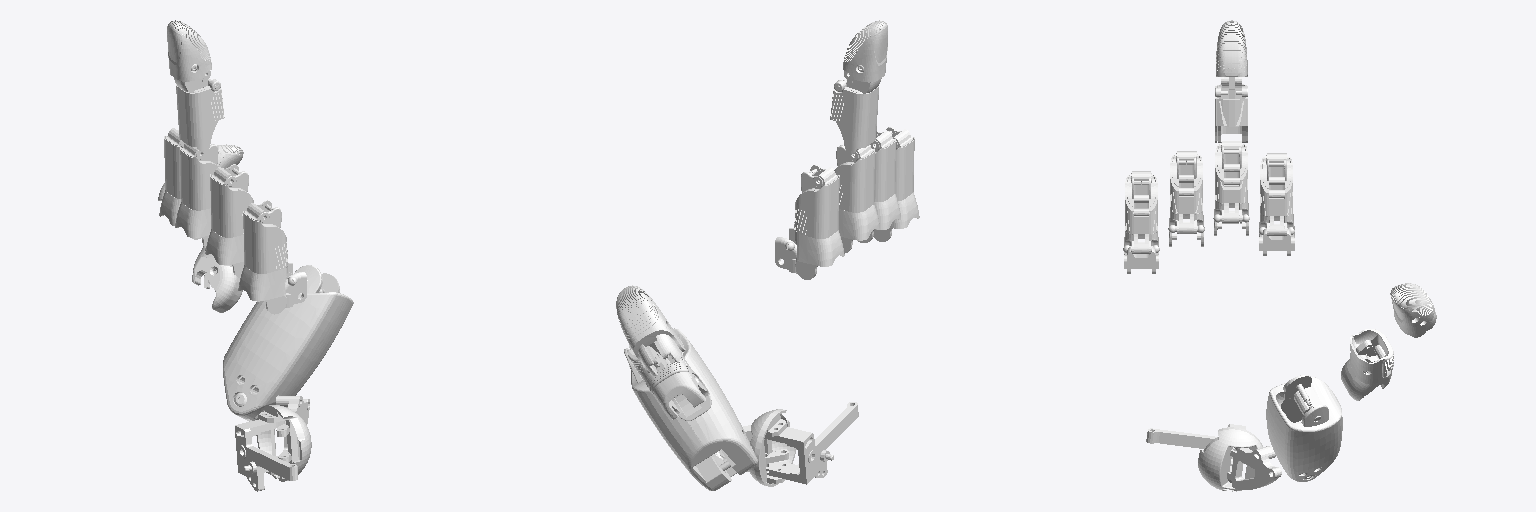
--- What the picture shows (computed from the rendered views, not written in the file) ---
3 views of the same robot in one strip: view 1: azimuth 30°, elevation 25°; view 2: azimuth 150°, elevation 25°; view 3: azimuth 270°, elevation 25° (orthographic).
Robot: linkerhand_l20_right.urdf — 22 links, 21 joints (21 revolute); root link base_link; default pose: all joints at 0.
Links seen in each view (by area): view 1: thumb_metacarpals, pinky_proximal, thumb_metacarpals_base1, ring_proximal, middle_proximal, middle_middle, middle_distal, thumb_proximal, index_proximal, thumb_metacarpals_base2, pinky_metacarpals, thumb_distal; view 2: thumb_metacarpals, thumb_metacarpals_base1, index_proximal, thumb_distal, middle_proximal, thumb_proximal, middle_middle, middle_distal, ring_proximal, pinky_proximal, index_metacarpals; view 3: thumb_metacarpals, thumb_metacarpals_base1, ring_proximal, middle_proximal, thumb_proximal, index_proximal, pinky_proximal, middle_distal, thumb_distal, thumb_metacarpals_base2, middle_middle, index_metacarpals (+1 smaller).
Boxes of the visible links, x1,y1,x2,y2 form: thumb_metacarpals: [223, 265, 353, 421]; pinky_proximal: [238, 200, 296, 314]; thumb_metacarpals_base1: [235, 405, 311, 491]; ring_proximal: [205, 164, 253, 277]; middle_proximal: [175, 143, 218, 247]; middle_middle: [176, 79, 224, 151]; middle_distal: [167, 20, 211, 92]; thumb_proximal: [192, 246, 242, 312]; index_proximal: [159, 128, 200, 239]; thumb_metacarpals_base2: [276, 395, 309, 462]; pinky_metacarpals: [285, 263, 306, 307]; thumb_distal: [158, 144, 243, 200]; thumb_metacarpals: [624, 328, 757, 490]; thumb_metacarpals_base1: [749, 402, 858, 486]; index_proximal: [785, 165, 844, 279]; thumb_distal: [616, 285, 685, 375]; middle_proximal: [834, 145, 879, 253]; thumb_proximal: [627, 345, 711, 420]; middle_middle: [830, 79, 878, 153]; middle_distal: [843, 20, 887, 93]; ring_proximal: [858, 130, 900, 242]; pinky_proximal: [873, 127, 919, 241]; index_metacarpals: [775, 228, 796, 273]; thumb_metacarpals: [1266, 375, 1342, 481]; thumb_metacarpals_base1: [1146, 424, 1262, 491]; ring_proximal: [1168, 151, 1204, 246]; middle_proximal: [1213, 141, 1249, 235]; thumb_proximal: [1341, 329, 1393, 400]; index_proximal: [1259, 153, 1294, 237]; pinky_proximal: [1123, 171, 1159, 255]; middle_distal: [1216, 20, 1247, 98]; thumb_distal: [1390, 283, 1436, 337]; thumb_metacarpals_base2: [1227, 446, 1281, 489]; middle_middle: [1215, 84, 1247, 142]; index_metacarpals: [1259, 228, 1294, 255].
Size in the robot's own frame: 0.1057 by 0.1501 by 0.2245 metres.
13 mesh visuals loaded from 22 distinct referenced files (13 binary STL); not drawn: 9 (reference not matched to a file when rendering).

robot.urdf — linkerhand_l20_right.urdf:
<?xml version="1.0" encoding="utf-8"?>
<!-- This URDF was automatically created by SolidWorks to URDF Exporter! Originally created by Stephen Brawner ([email redacted]) 
     Commit Version: 1.6.0-1-g15f4949  Build Version: 1.6.7594.29634
     For more information, please see http://wiki.ros.org/sw_urdf_exporter -->
<robot
  name="linkerhand_l20_right.urdf">
  <link
    name="base_link">
    <inertial>
      <origin
        xyz="0.000441885047026747 0.00500849972399617 0.0573919533012254"
        rpy="0 0 0" />
      <mass
        value="2.91817267018669E-05" />
      <inertia
        ixx="1.51306260584639E-11"
        ixy="2.65772325611336E-21"
        ixz="1.20313450442092E-16"
        iyy="2.22812296859512E-10"
        iyz="-4.56163949104085E-15"
        izz="2.22792879892319E-10" />
    </inertial>
    <visual>
      <origin
        xyz="0 0 0"
        rpy="0 0 0" />
      <geometry>
        <mesh
          filename="meshes/base_link.STL" />
      </geometry>
      <material
        name="">
        <color
          rgba="1 1 1 1" />
      </material>
    </visual>
    <collision>
      <origin
        xyz="0 0 0"
        rpy="0 0 0" />
      <geometry>
        <mesh
          filename="meshes/base_link.STL" />
      </geometry>
    </collision>
  </link>
  <link
    name="thumb_metacarpals_base1">
    <inertial>
      <origin
        xyz="0.0229535763476013 0.000832788697536835 -0.0013198199434825"
        rpy="0 0 0" />
      <mass
        value="0.000117519863807651" />
      <inertia
        ixx="2.36022486140104E-09"
        ixy="3.03248382970144E-13"
        ixz="-6.18340736069727E-12"
        iyy="2.35568711016501E-09"
        iyz="4.61881186600495E-13"
        izz="1.48861157996815E-10" />
    </inertial>
    <visual>
      <origin
        xyz="0 0 0"
        rpy="0 0 0" />
      <geometry>
        <mesh
          filename="meshes/thumb_metacarpals_base1.STL" />
      </geometry>
      <material
        name="">
        <color
          rgba="1 1 1 1" />
      </material>
    </visual>
    <collision>
      <origin
        xyz="0 0 0"
        rpy="0 0 0" />
      <geometry>
        <mesh
          filename="meshes/thumb_metacarpals_base1.STL" />
      </geometry>
    </collision>
  </link>
  <joint
    name="thumb_cmc_roll"
    type="revolute">
    <origin
      xyz="0.000673424792196536 0.00500849972399572 0.0573919534353699"
      rpy="0 0 0" />
    <parent
      link="base_link" />
    <child
      link="thumb_metacarpals_base1" />
    <axis
      xyz="0.999999999999929 0 0" />
    <limit
      lower="-0.8"
      upper="0.5"
      effort="100"
      velocity="1" />
  </joint>
  <link
    name="thumb_metacarpals_base2">
    <inertial>
      <origin
        xyz="0.000231570160724059 0.0745658286975114 0.0553790725054494"
        rpy="0 0 0" />
      <mass
        value="0.00583469729849543" />
      <inertia
        ixx="2.46142363141672E-06"
        ixy="1.13403105282533E-07"
        ixz="-2.91010442811516E-08"
        iyy="1.34551273815639E-06"
        iyz="5.67369748967897E-07"
        izz="1.54771605564477E-06" />
    </inertial>
    <visual>
      <origin
        xyz="0 0 0"
        rpy="0 0 0" />
      <geometry>
        <mesh
          filename="meshes/thumb_metacarpals_base2.STL" />
      </geometry>
      <material
        name="">
        <color
          rgba="1 1 1 1" />
      </material>
    </visual>
    <collision>
      <origin
        xyz="0 0 0"
        rpy="0 0 0" />
      <geometry>
        <mesh
          filename="meshes/thumb_metacarpals_base2.STL" />
      </geometry>
    </collision>
  </link>
  <joint
    name="thumb_cmc_yaw"
    type="revolute">
    <origin
      xyz="0.0229415604675387 0.000833353787679902 0"
      rpy="0 0 0" />
    <parent
      link="thumb_metacarpals_base1" />
    <child
      link="thumb_metacarpals_base2" />
    <axis
      xyz="0 0 -1" />
    <limit
      lower="0"
      upper="1.57"
      effort="100"
      velocity="1" />
  </joint>
  <link
    name="thumb_metacarpals">
    <inertial>
      <origin
        xyz="0.0034281344806788 0.000316261040417279 0.0674362259842037"
        rpy="0 0 0" />
      <mass
        value="0.00583469729849543" />
      <inertia
        ixx="2.00707953925106E-06"
        ixy="-1.02470756673672E-07"
        ixz="-1.34196876876637E-07"
        iyy="2.4614236313789E-06"
        iyz="5.66293125829818E-08"
        izz="8.86149254587927E-07" />
    </inertial>
    <visual>
      <origin
        xyz="0 0 0"
        rpy="0 0 0" />
      <geometry>
        <mesh
          filename="meshes/thumb_metacarpals.STL" />
      </geometry>
      <material
        name="">
        <color
          rgba="1 1 1 1" />
      </material>
    </visual>
    <collision>
      <origin
        xyz="0 0 0"
        rpy="0 0 0" />
      <geometry>
        <mesh
          filename="meshes/thumb_metacarpals.STL" />
      </geometry>
    </collision>
  </link>
  <joint
    name="thumb_cmc_pitch"
    type="revolute">
    <origin
      xyz="-8.46909131121537E-05 0.0307945044068651 0.00396440678804784"
      rpy="0 -0.756062553947979 -1.570796326182" />
    <parent
      link="thumb_metacarpals_base2" />
    <child
      link="thumb_metacarpals" />
    <axis
      xyz="0 1 0" />
    <limit
      lower="0"
      upper="0.6"
      effort="100"
      velocity="1" />
  </joint>
  <link
    name="thumb_proximal">
    <inertial>
      <origin
        xyz="-0.000627827255459873 0.000316261037763749 0.0113528676590863"
        rpy="0 0 0" />
      <mass
        value="0.00583469729849543" />
      <inertia
        ixx="2.00707953925106E-06"
        ixy="-1.02470756673672E-07"
        ixz="-1.34196876876637E-07"
        iyy="2.4614236313789E-06"
        iyz="5.66293125829818E-08"
        izz="8.86149254587927E-07" />
    </inertial>
    <visual>
      <origin
        xyz="0 0 0"
        rpy="0 0 0" />
      <geometry>
        <mesh
          filename="meshes/thumb_proximal.STL" />
      </geometry>
      <material
        name="">
        <color
          rgba="1 1 1 1" />
      </material>
    </visual>
    <collision>
      <origin
        xyz="0 0 0"
        rpy="0 0 0" />
      <geometry>
        <mesh
          filename="meshes/thumb_proximal.STL" />
      </geometry>
    </collision>
  </link>
  <joint
    name="thumb_mcp"
    type="revolute">
    <origin
      xyz="0.0040559617361387 0 0.0560833583251174"
      rpy="0 0 0" />
    <parent
      link="thumb_metacarpals" />
    <child
      link="thumb_proximal" />
    <axis
      xyz="0 1 0" />
    <limit
      lower="0"
      upper="1.2"
      effort="100"
      velocity="1" />
  </joint>
  <link
    name="thumb_distal">
    <inertial>
      <origin
        xyz="-0.00723058765258039 0.000316261034811652 -0.0230184194160739"
        rpy="0 0 0" />
      <mass
        value="0.00583469729849543" />
      <inertia
        ixx="2.00707953925106E-06"
        ixy="-1.02470756673672E-07"
        ixz="-1.34196876876637E-07"
        iyy="2.4614236313789E-06"
        iyz="5.66293125829817E-08"
        izz="8.86149254587927E-07" />
    </inertial>
    <visual>
      <origin
        xyz="0 0 0"
        rpy="0 0 0" />
      <geometry>
        <mesh
          filename="meshes/thumb_distal.STL" />
      </geometry>
      <material
        name="">
        <color
          rgba="1 1 1 1" />
      </material>
    </visual>
    <collision>
      <origin
        xyz="0 0 0"
        rpy="0 0 0" />
      <geometry>
        <mesh
          filename="meshes/thumb_distal.STL" />
      </geometry>
    </collision>
  </link>
  <joint
    name="thumb_ip"
    type="revolute">
    <origin
      xyz="0.00660276039712052 0 0.0343712870751602"
      rpy="0 0 0" />
    <parent
      link="thumb_proximal" />
    <child
      link="thumb_distal" />
    <axis
      xyz="0 1 0" />
    <limit
      lower="0"
      upper="1.2"
      effort="100"
      velocity="1" />
    <mimic
      joint="thumb_mcp"
      multiplier="0.8079"
      offset="0" />
  </joint>
  <link
    name="index_metacarpals">
    <inertial>
      <origin
        xyz="0.0369695317509838 0.0537829394916592 -0.0465404514522212"
        rpy="0 0 0" />
      <mass
        value="0.00583469729849543" />
      <inertia
        ixx="2.46142363142307E-06"
        ixy="1.13403105251931E-07"
        ixz="-2.91010442940731E-08"
        iyy="1.34551273818186E-06"
        iyz="5.67369748972777E-07"
        izz="1.54771605561295E-06" />
    </inertial>
    <visual>
      <origin
        xyz="0 0 0"
        rpy="0 0 0" />
      <geometry>
        <mesh
          filename="meshes/index_metacarpals.STL" />
      </geometry>
      <material
        name="">
        <color
          rgba="1 1 1 1" />
      </material>
    </visual>
    <collision>
      <origin
        xyz="0 0 0"
        rpy="0 0 0" />
      <geometry>
        <mesh
          filename="meshes/index_metacarpals.STL" />
      </geometry>
    </collision>
  </link>
  <joint
    name="index_mcp_roll"
    type="revolute">
    <origin
      xyz="-0.0131230356952281 0.0266247663700636 0.159311466218564"
      rpy="0 0 0" />
    <parent
      link="base_link" />
    <child
      link="index_metacarpals" />
    <axis
      xyz="1 0 0" />
    <limit
      lower="-0.18"
      upper="0.18"
      effort="100"
      velocity="1" />
  </joint>
  <link
    name="index_proximal">
    <inertial>
      <origin
        xyz="0.03697 0.053783 -0.04654"
        rpy="0 0 0" />
      <mass
        value="0.0058347" />
      <inertia
        ixx="2.4614E-06"
        ixy="1.134E-07"
        ixz="-2.9101E-08"
        iyy="1.3455E-06"
        iyz="5.6737E-07"
        izz="1.5477E-06" />
    </inertial>
    <visual>
      <origin
        xyz="0 0 0"
        rpy="0 0 0" />
      <geometry>
        <mesh
          filename="meshes/index_proximal.STL" />
      </geometry>
      <material
        name="">
        <color
          rgba="1 1 1 1" />
      </material>
    </visual>
    <collision>
      <origin
        xyz="0 0 0"
        rpy="0 0 0" />
      <geometry>
        <mesh
          filename="meshes/index_proximal.STL" />
      </geometry>
    </collision>
  </link>
  <joint
    name="index_mcp_pitch"
    type="revolute">
    <origin
      xyz="0 0 0"
      rpy="0 0 0" />
    <parent
      link="index_metacarpals" />
    <child
      link="index_proximal" />
    <axis
      xyz="0 1 0" />
    <limit
      lower="0"
      upper="1.33"
      effort="100"
      velocity="1" />
  </joint>
  <link
    name="index_middle">
    <inertial>
      <origin
        xyz="0.041164173730248 0.0538329394860146 -0.0913598786448275"
        rpy="0 0 0" />
      <mass
        value="0.00583469729849543" />
      <inertia
        ixx="2.46142363142312E-06"
        ixy="1.13403105250885E-07"
        ixz="-2.9101044297371E-08"
        iyy="1.34551273814998E-06"
        iyz="5.67369748967099E-07"
        izz="1.54771605564478E-06" />
    </inertial>
    <visual>
      <origin
        xyz="0 0 0"
        rpy="0 0 0" />
      <geometry>
        <mesh
          filename="meshes/index_middle.STL" />
      </geometry>
      <material
        name="">
        <color
          rgba="1 1 1 1" />
      </material>
    </visual>
    <collision>
      <origin
        xyz="0 0 0"
        rpy="0 0 0" />
      <geometry>
        <mesh
          filename="meshes/index_middle.STL" />
      </geometry>
    </collision>
  </link>
  <joint
    name="index_pip"
    type="revolute">
    <origin
      xyz="-0.00419464197927529 -4.99999969099107E-05 0.0448194271910961"
      rpy="0 0 0" />
    <parent
      link="index_proximal" />
    <child
      link="index_middle" />
    <axis
      xyz="0 1 0" />
    <limit
      lower="0"
      upper="1.77"
      effort="100"
      velocity="1" />
  </joint>
  <link
    name="index_distal">
    <inertial>
      <origin
        xyz="0.0109846494992161 0.0538329394780222 -0.128447741754705"
        rpy="0 0 0" />
      <mass
        value="0.00583469729849543" />
      <inertia
        ixx="2.43123631172989E-06"
        ixy="2.33010515596331E-07"
        ixz="1.65885440042901E-07"
        iyy="1.34551273803883E-06"
        iyz="5.2959871214542E-07"
        izz="1.57790337544917E-06" />
    </inertial>
    <visual>
      <origin
        xyz="0 0 0"
        rpy="0 0 0" />
      <geometry>
        <mesh
          filename="meshes/index_distal.STL" />
      </geometry>
      <material
        name="">
        <color
          rgba="1 1 1 1" />
      </material>
    </visual>
    <collision>
      <origin
        xyz="0 0 0"
        rpy="0 0 0" />
      <geometry>
        <mesh
          filename="meshes/index_distal.STL" />
      </geometry>
    </collision>
  </link>
  <joint
    name="index_dip"
    type="revolute">
    <origin
      xyz="0.00275625762572076 0 0.0317023692875254"
      rpy="0 -0.217210944617023 0" />
    <parent
      link="index_middle" />
    <child
      link="index_distal" />
    <axis
      xyz="0 1 0" />
    <limit
      lower="0"
      upper="1.43"
      effort="100"
      velocity="1" />
    <mimic
      joint="index_pip"
      multiplier="1.3898"
      offset="0" />
  </joint>
  <link
    name="middle_metacarpals">
    <inertial>
      <origin
        xyz="0.0417033715062215 0.0753829394928262 -0.0510333406112854"
        rpy="0 0 0" />
      <mass
        value="0.00583469729849543" />
      <inertia
        ixx="2.461423631436E-06"
        ixy="1.13403105187538E-07"
        ixz="-2.91010443295791E-08"
        iyy="1.34551273813711E-06"
        iyz="5.67369748965446E-07"
        izz="1.54771605564478E-06" />
    </inertial>
    <visual>
      <origin
        xyz="0 0 0"
        rpy="0 0 0" />
      <geometry>
        <mesh
          filename="meshes/middle_metacarpals.STL" />
      </geometry>
      <material
        name="">
        <color
          rgba="1 1 1 1" />
      </material>
    </visual>
    <collision>
      <origin
        xyz="0 0 0"
        rpy="0 0 0" />
      <geometry>
        <mesh
          filename="meshes/middle_metacarpals.STL" />
      </geometry>
    </collision>
  </link>
  <joint
    name="middle_mcp_roll"
    type="revolute">
    <origin
      xyz="-0.0178568780584143 0.00502476703162374 0.163804355813813"
      rpy="0 0 0" />
    <parent
      link="base_link" />
    <child
      link="middle_metacarpals" />
    <axis
      xyz="1 0 0" />
    <limit
      lower="-0.18"
      upper="0.18"
      effort="100"
      velocity="1" />
  </joint>
  <link
    name="middle_proximal">
    <inertial>
      <origin
        xyz="0.0417033715062215 0.0753829394928262 -0.0510333406112854"
        rpy="0 0 0" />
      <mass
        value="0.00583469729849543" />
      <inertia
        ixx="2.461423631436E-06"
        ixy="1.13403105187538E-07"
        ixz="-2.91010443295791E-08"
        iyy="1.34551273813711E-06"
        iyz="5.67369748965447E-07"
        izz="1.54771605564478E-06" />
    </inertial>
    <visual>
      <origin
        xyz="0 0 0"
        rpy="0 0 0" />
      <geometry>
        <mesh
          filename="meshes/middle_proximal.STL" />
      </geometry>
      <material
        name="">
        <color
          rgba="1 1 1 1" />
      </material>
    </visual>
    <collision>
      <origin
        xyz="0 0 0"
        rpy="0 0 0" />
      <geometry>
        <mesh
          filename="meshes/middle_proximal.STL" />
      </geometry>
    </collision>
  </link>
  <joint
    name="middle_mcp_pitch"
    type="revolute">
    <origin
      xyz="0 0 0"
      rpy="0 0 0" />
    <parent
      link="middle_metacarpals" />
    <child
      link="middle_proximal" />
    <axis
      xyz="0 1 0" />
    <limit
      lower="0"
      upper="1.33"
      effort="100"
      velocity="1" />
  </joint>
  <link
    name="middle_middle">
    <inertial>
      <origin
        xyz="0.0458980134878245 0.0753832822205319 -0.0958527677923309"
        rpy="0 0 0" />
      <mass
        value="0.00583469729849543" />
      <inertia
        ixx="2.46142363142333E-06"
        ixy="1.13403105249966E-07"
        ixz="-2.91010442974085E-08"
        iyy="1.34551273815471E-06"
        iyz="5.67369748967952E-07"
        izz="1.54771605563984E-06" />
    </inertial>
    <visual>
      <origin
        xyz="0 0 0"
        rpy="0 0 0" />
      <geometry>
        <mesh
          filename="meshes/middle_middle.STL" />
      </geometry>
      <material
        name="">
        <color
          rgba="1 1 1 1" />
      </material>
    </visual>
    <collision>
      <origin
        xyz="0 0 0"
        rpy="0 0 0" />
      <geometry>
        <mesh
          filename="meshes/middle_middle.STL" />
      </geometry>
    </collision>
  </link>
  <joint
    name="middle_pip"
    type="revolute">
    <origin
      xyz="-0.0041946419773943 0 0.0448194271813739"
      rpy="0 0 0" />
    <parent
      link="middle_proximal" />
    <child
      link="middle_middle" />
    <axis
      xyz="0 1 0" />
    <limit
      lower="0"
      upper="1.77"
      effort="100"
      velocity="1" />
  </joint>
  <link
    name="middle_distal">
    <inertial>
      <origin
        xyz="0.0431417565588561 0.0753832822259055 -0.127555137608497"
        rpy="0 0 0" />
      <mass
        value="0.00583469729849543" />
      <inertia
        ixx="2.46142363142792E-06"
        ixy="1.13403105228423E-07"
        ixz="-2.91010443049728E-08"
        iyy="1.34551273818913E-06"
        iyz="5.67369748974314E-07"
        izz="1.54771605560084E-06" />
    </inertial>
    <visual>
      <origin
        xyz="0 0 0"
        rpy="0 0 0" />
      <geometry>
        <mesh
          filename="meshes/middle_distal.STL" />
      </geometry>
      <material
        name="">
        <color
          rgba="1 1 1 1" />
      </material>
    </visual>
    <collision>
      <origin
        xyz="0 0 0"
        rpy="0 0 0" />
      <geometry>
        <mesh
          filename="meshes/middle_distal.STL" />
      </geometry>
    </collision>
  </link>
  <joint
    name="middle_dip"
    type="revolute">
    <origin
      xyz="0.00275625692744558 0 0.0317023698187573"
      rpy="0 0 0" />
    <parent
      link="middle_middle" />
    <child
      link="middle_distal" />
    <axis
      xyz="0 1 0" />
    <limit
      lower="0"
      upper="1.43"
      effort="100"
      velocity="1" />
    <mimic
      joint="middle_pip"
      multiplier="1.3898"
      offset="0" />
  </joint>
  <link
    name="ring_metacarpals">
    <inertial>
      <origin
        xyz="0.0393985433026026 0.096982939491904 -0.0465404503544546"
        rpy="0 0 0" />
      <mass
        value="0.00583469729849543" />
      <inertia
        ixx="2.46142363142328E-06"
        ixy="1.13403105251025E-07"
        ixz="-2.9101044294104E-08"
        iyy="1.34551273818659E-06"
        iyz="5.67369748973631E-07"
        izz="1.54771605560801E-06" />
    </inertial>
    <visual>
      <origin
        xyz="0 0 0"
        rpy="0 0 0" />
      <geometry>
        <mesh
          filename="meshes/ring_metacarpals.STL" />
      </geometry>
      <material
        name="">
        <color
          rgba="1 1 1 1" />
      </material>
    </visual>
    <collision>
      <origin
        xyz="0 0 0"
        rpy="0 0 0" />
      <geometry>
        <mesh
          filename="meshes/ring_metacarpals.STL" />
      </geometry>
    </collision>
  </link>
  <joint
    name="ring_mcp_roll"
    type="revolute">
    <origin
      xyz="-0.0155520472481466 -0.0165752336298738 0.159311470075819"
      rpy="0 0 0" />
    <parent
      link="base_link" />
    <child
      link="ring_metacarpals" />
    <axis
      xyz="1 0 0" />
    <limit
      lower="-0.18"
      upper="0.18"
      effort="100"
      velocity="1" />
  </joint>
  <link
    name="ring_proximal">
    <inertial>
      <origin
        xyz="0.0393985433026026 0.096982939491904 -0.0465404503544546"
        rpy="0 0 0" />
      <mass
        value="0.00583469729849543" />
      <inertia
        ixx="2.46142363142328E-06"
        ixy="1.13403105251025E-07"
        ixz="-2.9101044294104E-08"
        iyy="1.34551273818659E-06"
        iyz="5.67369748973631E-07"
        izz="1.54771605560801E-06" />
    </inertial>
    <visual>
      <origin
        xyz="0 0 0"
        rpy="0 0 0" />
      <geometry>
        <mesh
          filename="meshes/ring_proximal.STL" />
      </geometry>
      <material
        name="">
        <color
          rgba="1 1 1 1" />
      </material>
    </visual>
    <collision>
      <origin
        xyz="0 0 0"
        rpy="0 0 0" />
      <geometry>
        <mesh
          filename="meshes/ring_proximal.STL" />
      </geometry>
    </collision>
  </link>
  <joint
    name="ring_mcp_pitch"
    type="revolute">
    <origin
      xyz="0 0 0"
      rpy="0 0 0" />
    <parent
      link="ring_metacarpals" />
    <child
      link="ring_proximal" />
    <axis
      xyz="0 1 0" />
    <limit
      lower="0"
      upper="1.33"
      effort="100"
      velocity="1" />
  </joint>
  <link
    name="ring_middle">
    <inertial>
      <origin
        xyz="0.0435931852745398 0.0969832822226263 -0.0913598775387995"
        rpy="0 0 0" />
      <mass
        value="0.00583469729849543" />
      <inertia
        ixx="2.46142363143605E-06"
        ixy="1.13403105187344E-07"
        ixz="-2.91010443295023E-08"
        iyy="1.34551273813907E-06"
        iyz="5.67369748965799E-07"
        izz="1.54771605564277E-06" />
    </inertial>
    <visual>
      <origin
        xyz="0 0 0"
        rpy="0 0 0" />
      <geometry>
        <mesh
          filename="meshes/ring_middle.STL" />
      </geometry>
      <material
        name="">
        <color
          rgba="1 1 1 1" />
      </material>
    </visual>
    <collision>
      <origin
        xyz="0 0 0"
        rpy="0 0 0" />
      <geometry>
        <mesh
          filename="meshes/ring_middle.STL" />
      </geometry>
    </collision>
  </link>
  <joint
    name="ring_pip"
    type="revolute">
    <origin
      xyz="-0.00419464197739421 0 0.044819427181374"
      rpy="0 0 0" />
    <parent
      link="ring_proximal" />
    <child
      link="ring_middle" />
    <axis
      xyz="0 1 0" />
    <limit
      lower="0"
      upper="1.77"
      effort="100"
      velocity="1" />
  </joint>
  <link
    name="ring_distal">
    <inertial>
      <origin
        xyz="0.0408369283505707 0.0969832822255912 -0.123062247353973"
        rpy="0 0 0" />
      <mass
        value="0.00583469729849543" />
      <inertia
        ixx="2.46142363142792E-06"
        ixy="1.13403105228423E-07"
        ixz="-2.91010443049728E-08"
        iyy="1.34551273818913E-06"
        iyz="5.67369748974314E-07"
        izz="1.54771605560084E-06" />
    </inertial>
    <visual>
      <origin
        xyz="0 0 0"
        rpy="0 0 0" />
      <geometry>
        <mesh
          filename="meshes/ring_distal.STL" />
      </geometry>
      <material
        name="">
        <color
          rgba="1 1 1 1" />
      </material>
    </visual>
    <collision>
      <origin
        xyz="0 0 0"
        rpy="0 0 0" />
      <geometry>
        <mesh
          filename="meshes/ring_distal.STL" />
      </geometry>
    </collision>
  </link>
  <joint
    name="ring_dip"
    type="revolute">
    <origin
      xyz="0.00275625692744577 0 0.0317023698187571"
      rpy="0 0 0" />
    <parent
      link="ring_middle" />
    <child
      link="ring_distal" />
    <axis
      xyz="0 1 0" />
    <limit
      lower="0"
      upper="1.43"
      effort="100"
      velocity="1" />
    <mimic
      joint="ring_pip"
      multiplier="1.3898"
      offset="0" />
  </joint>
  <link
    name="pinky_metacarpals">
    <inertial>
      <origin
        xyz="0.0357747782390721 0.1185829394934 -0.0375417245830277"
        rpy="0 0 0" />
      <mass
        value="0.00583469729849543" />
      <inertia
        ixx="2.461423631436E-06"
        ixy="1.13403105188406E-07"
        ixz="-2.91010443261962E-08"
        iyy="1.34551273817096E-06"
        iyz="5.67369748971479E-07"
        izz="1.54771605561093E-06" />
    </inertial>
    <visual>
      <origin
        xyz="0 0 0"
        rpy="0 0 0" />
      <geometry>
        <mesh
          filename="meshes/pinky_metacarpals.STL" />
      </geometry>
      <material
        name="">
        <color
          rgba="1 1 1 1" />
      </material>
    </visual>
    <collision>
      <origin
        xyz="0 0 0"
        rpy="0 0 0" />
      <geometry>
        <mesh
          filename="meshes/pinky_metacarpals.STL" />
      </geometry>
    </collision>
  </link>
  <joint
    name="pinky_mcp_roll"
    type="revolute">
    <origin
      xyz="-0.0119282769782894 -0.0381752349548123 0.150312749584634"
      rpy="0 0 0" />
    <parent
      link="base_link" />
    <child
      link="pinky_metacarpals" />
    <axis
      xyz="1 0 0" />
    <limit
      lower="-0.18"
      upper="0.18"
      effort="100"
      velocity="1" />
  </joint>
  <link
    name="pinky_proximal">
    <inertial>
      <origin
        xyz="0.0357747782390721 0.1185829394934 -0.0375417245830277"
        rpy="0 0 0" />
      <mass
        value="0.00583469729849543" />
      <inertia
        ixx="2.461423631436E-06"
        ixy="1.13403105188406E-07"
        ixz="-2.91010443261962E-08"
        iyy="1.34551273817096E-06"
        iyz="5.67369748971479E-07"
        izz="1.54771605561093E-06" />
    </inertial>
    <visual>
      <origin
        xyz="0 0 0"
        rpy="0 0 0" />
      <geometry>
        <mesh
          filename="meshes/pinky_proximal.STL" />
      </geometry>
      <material
        name="">
        <color
          rgba="1 1 1 1" />
      </material>
    </visual>
    <collision>
      <origin
        xyz="0 0 0"
        rpy="0 0 0" />
      <geometry>
        <mesh
          filename="meshes/pinky_proximal.STL" />
      </geometry>
    </collision>
  </link>
  <joint
    name="pinky_mcp_pitch"
    type="revolute">
    <origin
      xyz="0 0 0"
      rpy="0 0 0" />
    <parent
      link="pinky_metacarpals" />
    <child
      link="pinky_proximal" />
    <axis
      xyz="0 1 0" />
    <limit
      lower="0"
      upper="1.33"
      effort="100"
      velocity="1" />
  </joint>
  <link
    name="pinky_middle">
    <inertial>
      <origin
        xyz="0.0399694202164405 0.118583282222286 -0.0823611517776266"
        rpy="0 0 0" />
      <mass
        value="0.00583469729849543" />
      <inertia
        ixx="2.46142363143605E-06"
        ixy="1.13403105187344E-07"
        ixz="-2.91010443295023E-08"
        iyy="1.34551273813907E-06"
        iyz="5.67369748965799E-07"
        izz="1.54771605564277E-06" />
    </inertial>
    <visual>
      <origin
        xyz="0 0 0"
        rpy="0 0 0" />
      <geometry>
        <mesh
          filename="meshes/pinky_middle.STL" />
      </geometry>
      <material
        name="">
        <color
          rgba="1 1 1 1" />
      </material>
    </visual>
    <collision>
      <origin
        xyz="0 0 0"
        rpy="0 0 0" />
      <geometry>
        <mesh
          filename="meshes/pinky_middle.STL" />
      </geometry>
    </collision>
  </link>
  <joint
    name="pinky_pip"
    type="revolute">
    <origin
      xyz="-0.00419464197739449 0 0.0448194271912721"
      rpy="0 0 0" />
    <parent
      link="pinky_proximal" />
    <child
      link="pinky_middle" />
    <axis
      xyz="0 1 0" />
    <limit
      lower="0"
      upper="1.77"
      effort="100"
      velocity="1" />
  </joint>
  <link
    name="pinky_distal">
    <inertial>
      <origin
        xyz="0.0117572575484302 0.118583282224451 -0.119402987296551"
        rpy="0 0 0" />
      <mass
        value="0.00583469729849543" />
      <inertia
        ixx="2.43123630861852E-06"
        ixy="2.33010520569583E-07"
        ixz="1.65885448022839E-07"
        iyy="1.34551273818384E-06"
        iyz="5.29598709996232E-07"
        izz="1.57790337841553E-06" />
    </inertial>
    <visual>
      <origin
        xyz="0 0 0"
        rpy="0 0 0" />
      <geometry>
        <mesh
          filename="meshes/pinky_distal.STL" />
      </geometry>
      <material
        name="">
        <color
          rgba="1 1 1 1" />
      </material>
    </visual>
    <collision>
      <origin
        xyz="0 0 0"
        rpy="0 0 0" />
      <geometry>
        <mesh
          filename="meshes/pinky_distal.STL" />
      </geometry>
    </collision>
  </link>
  <joint
    name="pinky_dip"
    type="revolute">
    <origin
      xyz="0.00275625692744577 0 0.0317023698187571"
      rpy="0 -0.217210953895726 0" />
    <parent
      link="pinky_middle" />
    <child
      link="pinky_distal" />
    <axis
      xyz="0 1 0" />
    <limit
      lower="0"
      upper="1.43"
      effort="100"
      velocity="1" />
    <mimic
      joint="pinky_pip"
      multiplier="1.3898"
      offset="0" />
  </joint>
</robot>
